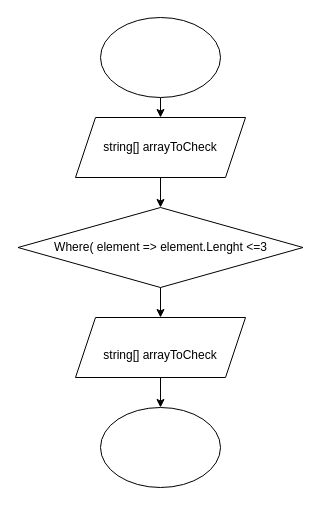
Image size: 320x505. Some labels were removed from this diagram. Here are the shapes that lost their labels. From the top down, the centre of each, then its label:
At (x=160, y=57): "Start".
At (x=160, y=447): "Finish".
